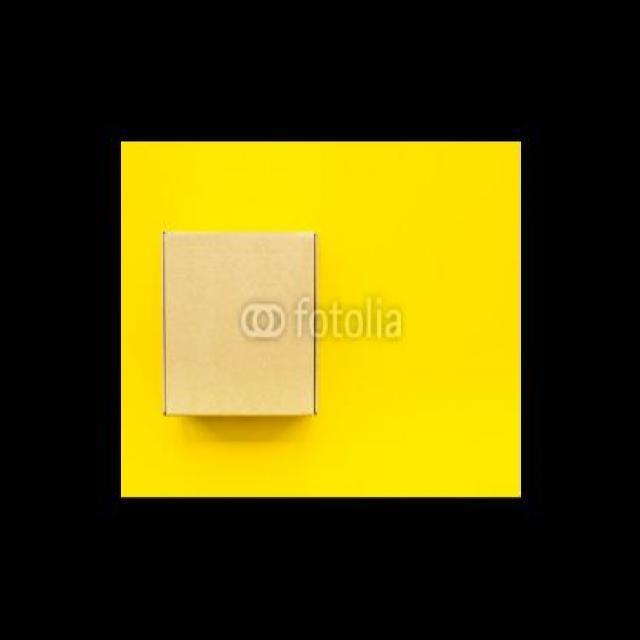box: (162, 231, 318, 415)
